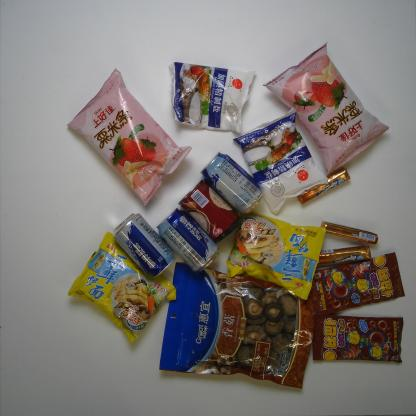Alcohol: (201, 149, 266, 215), (113, 213, 177, 278), (158, 207, 218, 273)
Candy: (310, 253, 408, 317), (311, 316, 406, 366), (297, 169, 350, 204), (320, 222, 380, 246), (316, 244, 372, 267)
Canned Food: (178, 182, 237, 245)
Dried Food: (160, 261, 315, 392)
Instant Noodles: (68, 232, 180, 346), (226, 208, 326, 301)
Puffed Food: (67, 67, 192, 209), (262, 43, 392, 175)
Seasoner: (233, 107, 324, 216), (170, 59, 258, 134)
